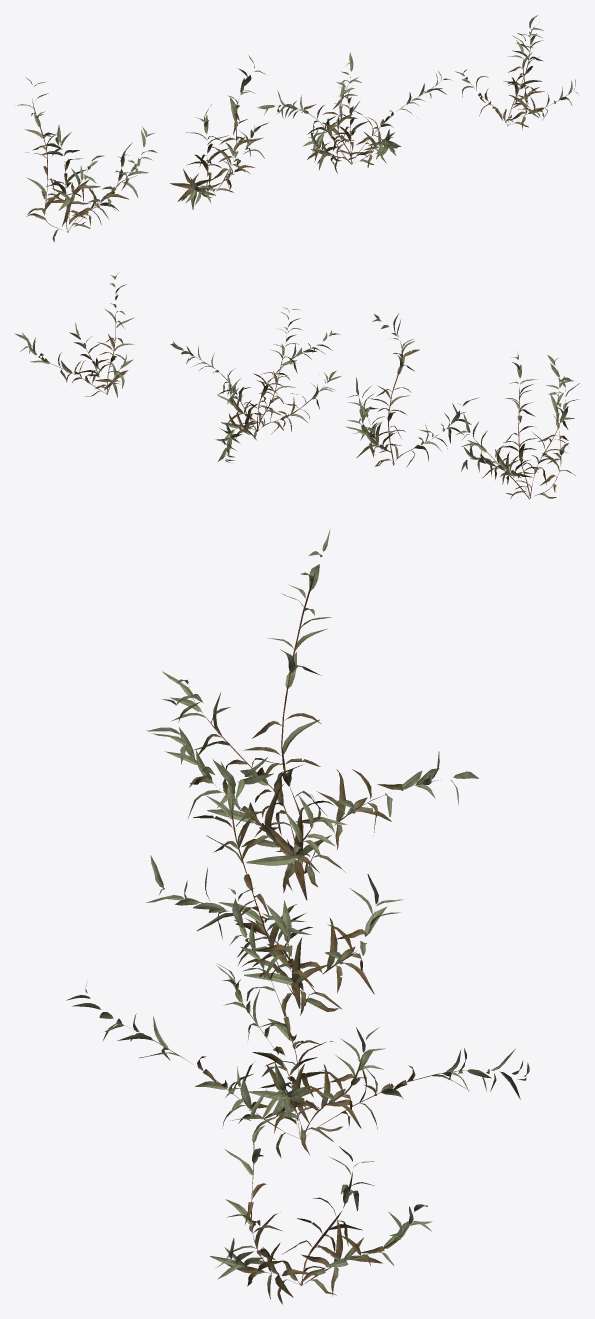
File: shrub_02.glb
3 views of the same model, one above another, from view 1: azimuth 30°, elevation 25°; view 2: azimuth 150°, elevation 25°; view 3: azimuth 270°, elevation 25° (orthographic). The views are drawn at different scales.
Parts seen in each view (by area): view 1: shrub_02_c, shrub_02_a, shrub_02_b, shrub_02_d; view 2: shrub_02_a, shrub_02_c, shrub_02_b, shrub_02_d; view 3: shrub_02_a, shrub_02_c, shrub_02_b, shrub_02_d.
Part boxes in pixels (x1=…): shrub_02_c: x1=257, y1=52, x2=451, y2=173; shrub_02_a: x1=17, y1=77, x2=157, y2=242; shrub_02_b: x1=170, y1=55, x2=268, y2=209; shrub_02_d: x1=455, y1=15, x2=578, y2=129; shrub_02_a: x1=456, y1=351, x2=579, y2=499; shrub_02_c: x1=170, y1=307, x2=341, y2=462; shrub_02_b: x1=345, y1=313, x2=478, y2=467; shrub_02_d: x1=14, y1=273, x2=134, y2=397; shrub_02_a: x1=146, y1=529, x2=478, y2=900; shrub_02_c: x1=66, y1=888, x2=529, y2=1157; shrub_02_b: x1=146, y1=757, x2=403, y2=1017; shrub_02_d: x1=210, y1=1066, x2=432, y2=1304.
Size of the model in its own units: 6.05 by 1.7 by 2.29.
1 material, 1 textured.
